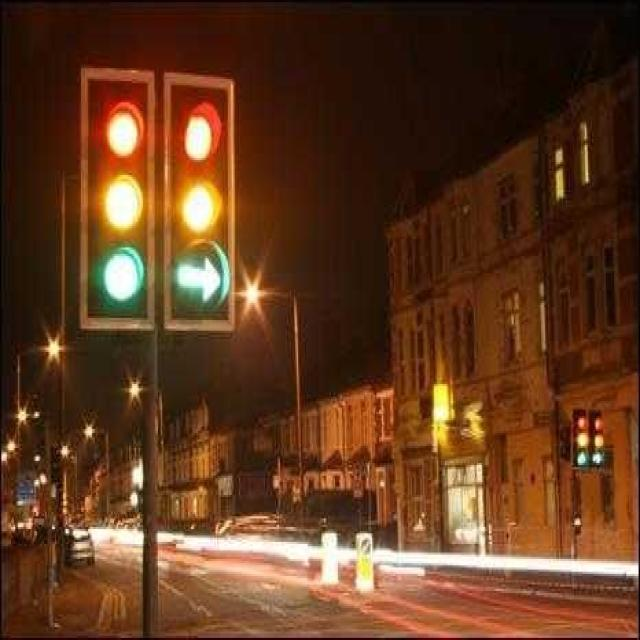Traffic Light -Green-: (173, 242, 234, 326), (98, 242, 148, 319)
Traffic Light -Red-: (97, 87, 154, 165), (174, 88, 228, 170)
Traffic Light -Yellow-: (98, 170, 150, 232), (174, 177, 228, 235)
